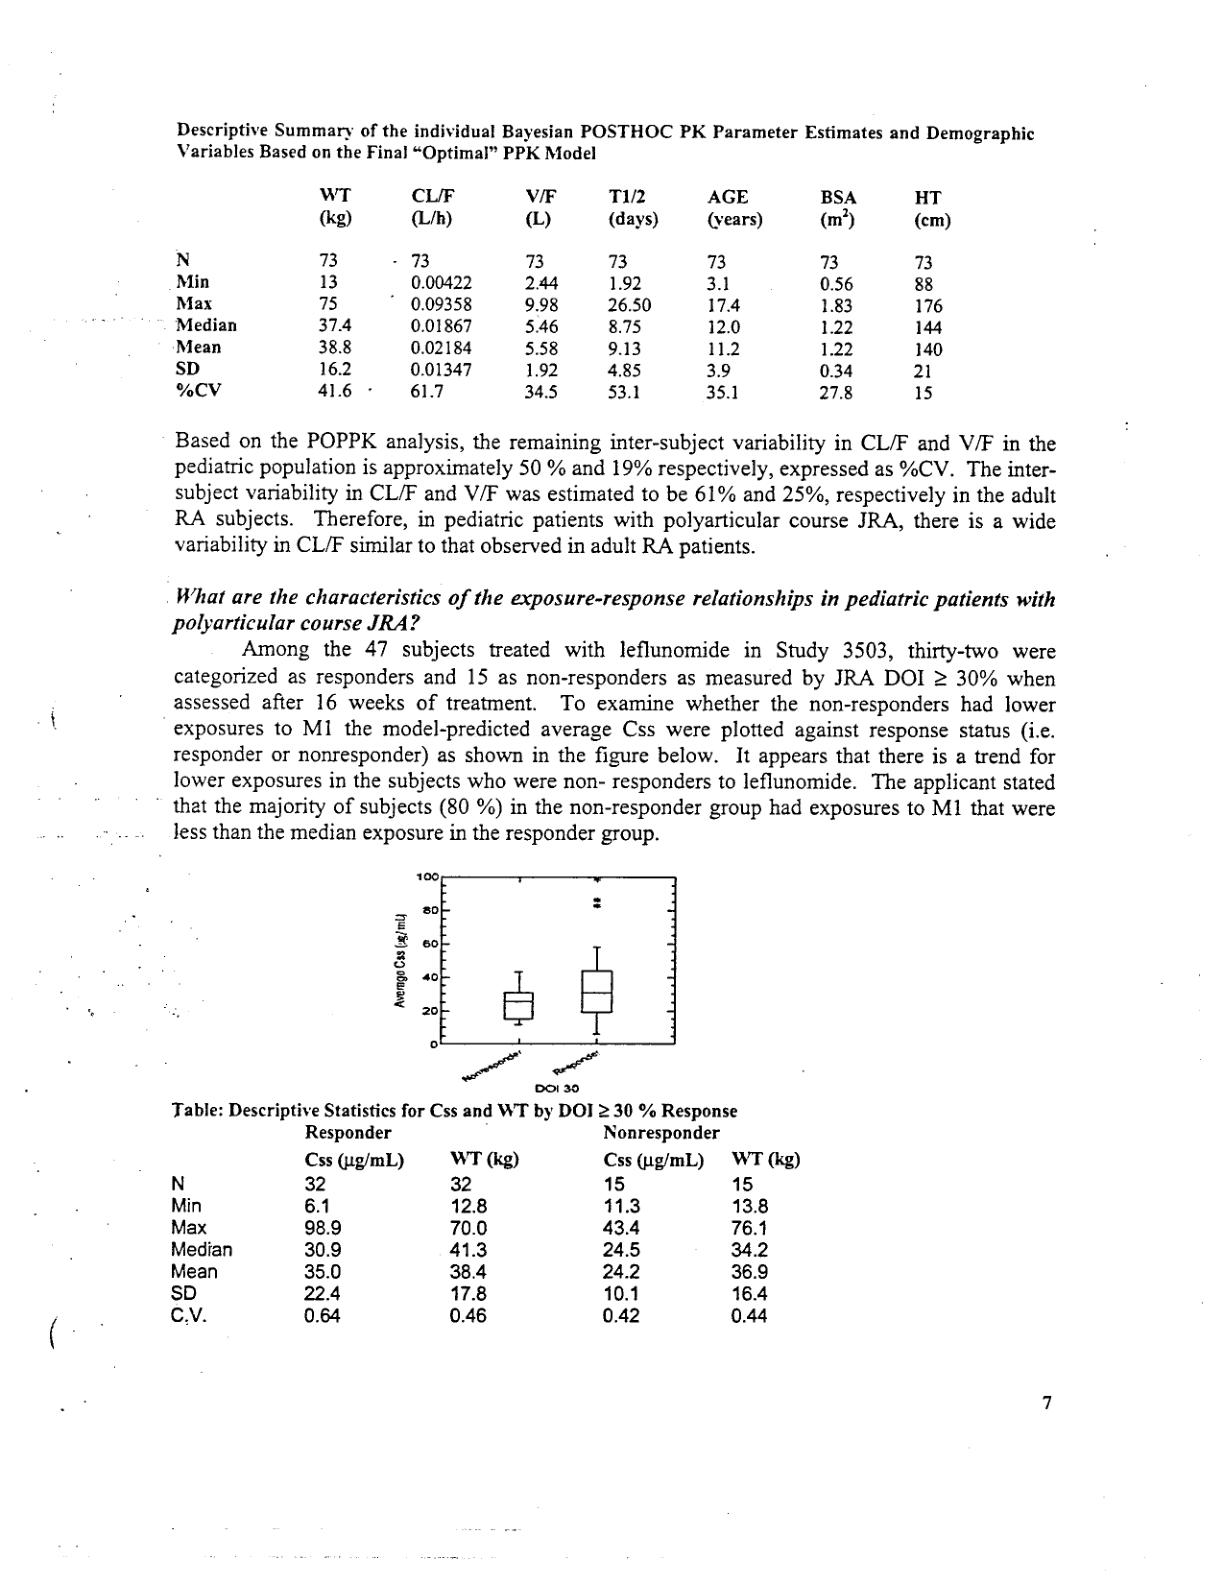nolines: (171, 184, 958, 408), (165, 1122, 804, 1335)
